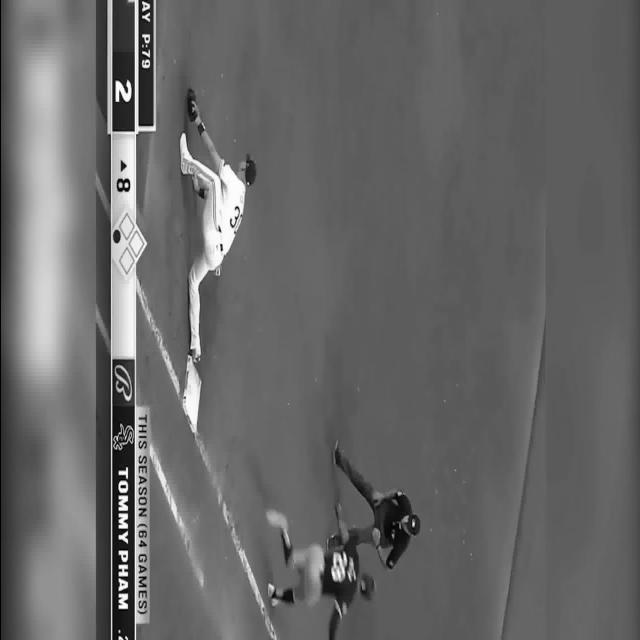base: (176, 370, 202, 430)
baseball_glove: (186, 88, 198, 122)
shoe: (178, 132, 190, 175), (265, 508, 288, 528), (280, 528, 292, 564), (267, 582, 279, 606), (332, 439, 342, 465), (326, 532, 338, 550), (187, 348, 200, 363)
